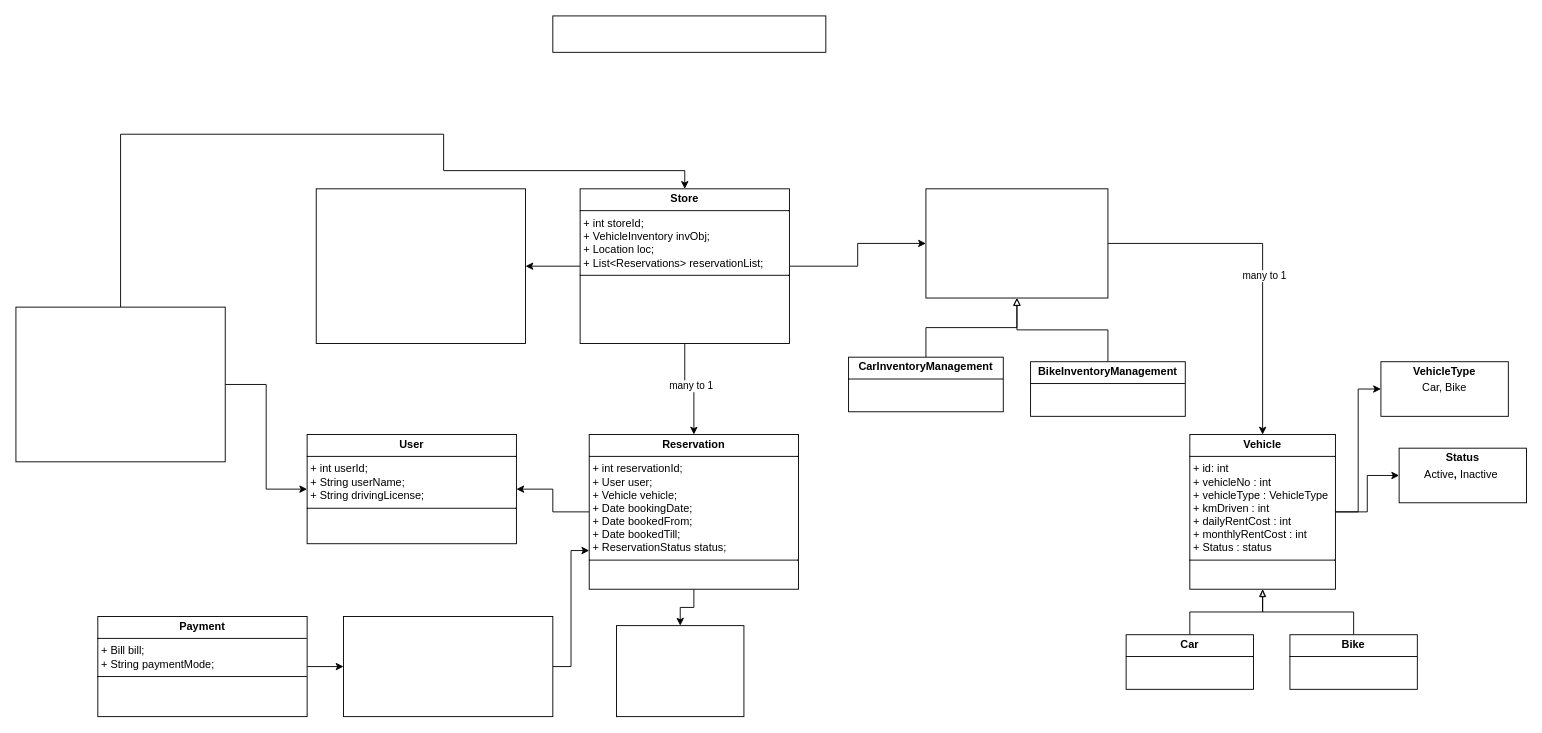
Image size: 1542x733. Some labels were removed from this diagram. Here are the shapes that lost their labels. From the top down, the centre of each, then its label:
At pixel 689 33: "CAR RENTAL SYSTEM - LLD".
At pixel 1016 243: "VehicleInventory + List<Vehicle> list; //CRUD".
At pixel 420 266: "Location + String address; + String city; + String state; + String pincode;".
At pixel 120 384: "Vehicle Rental System + List<User> users; + List<Store> stores;".
At pixel 448 666: "Bill + Reservation reservation; + boolean isPaid; + double amount;".
At pixel 680 671: "ReservationStatus SCHEDULED, INPROGRESS, CLOSED, CANCELLED".
